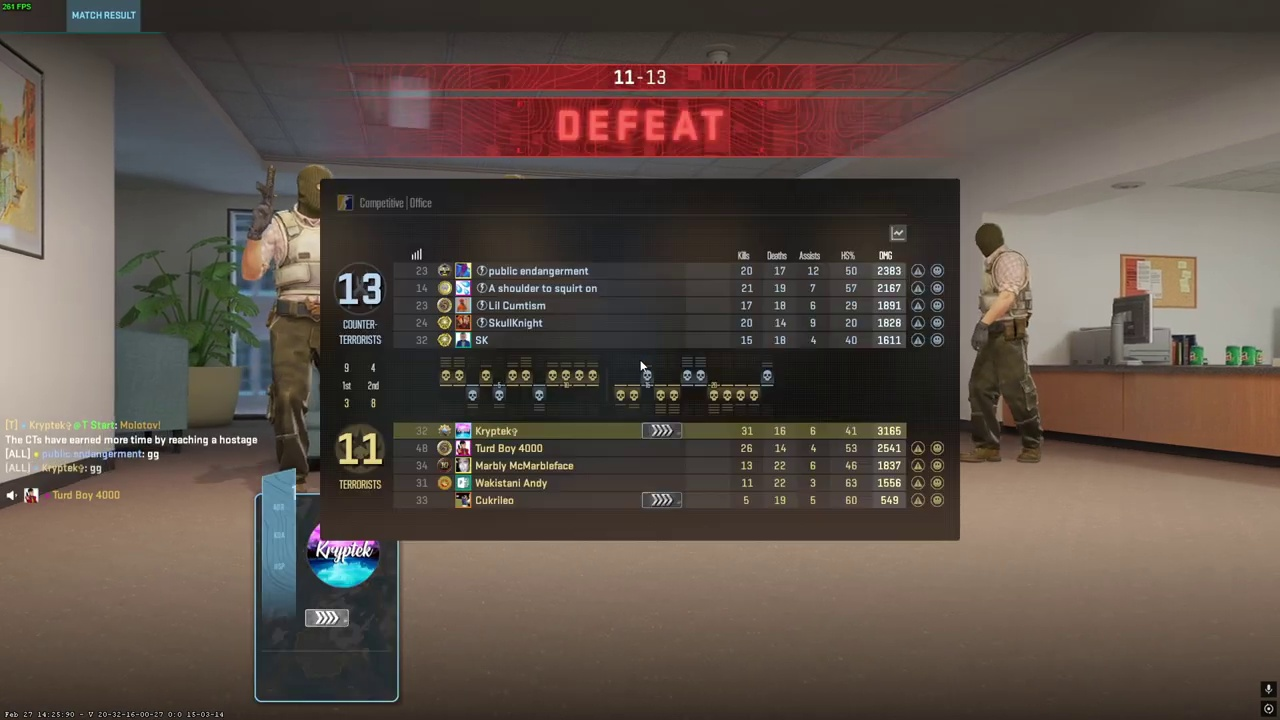Terrorist: (257, 165, 323, 487), (966, 223, 1041, 464)
